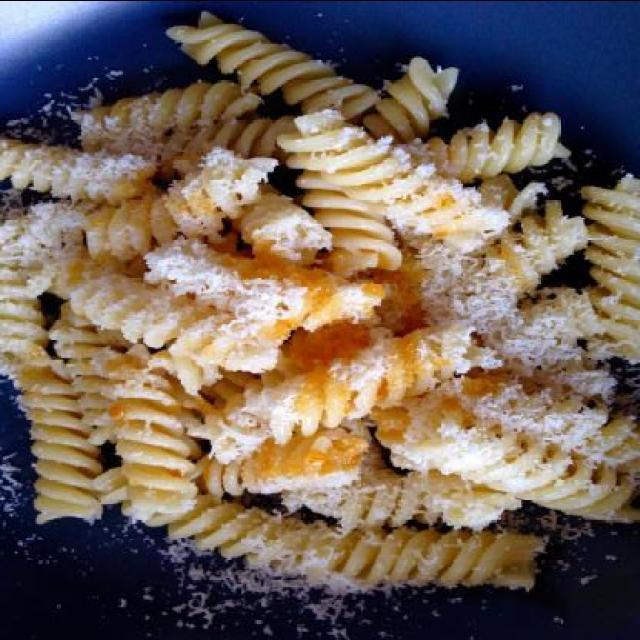Oil pasta: (27, 25, 639, 598)
